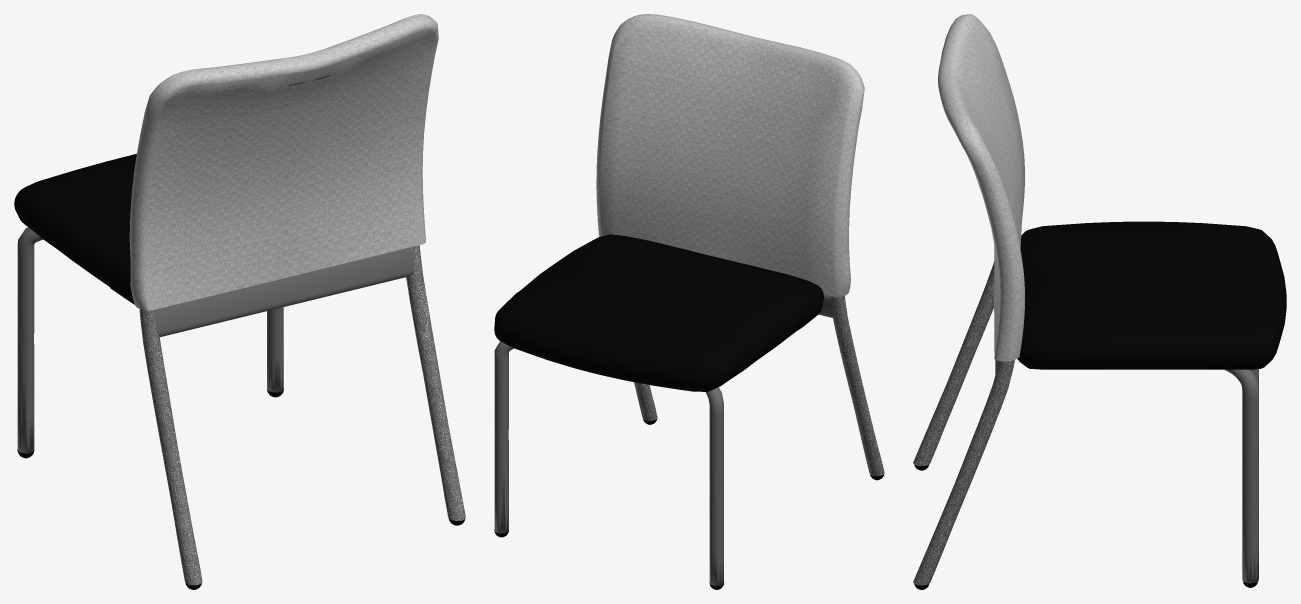
The picture shows the model from 3 angles, left to right: view 1: azimuth 30°, elevation 25°; view 2: azimuth 150°, elevation 25°; view 3: azimuth 270°, elevation 25°; orthographic projection. The views are drawn at different scales.
Parts seen in each view (by area): view 1: Obj_000010_ID168, Obj_000008_1_ID150, Obj_000006_ID132, Obj_000005_1_ID40, Obj_000004_1_ID32, Obj_000003_1_ID22; view 2: Obj_000010_ID168, Obj_000008_1_ID150, Obj_000006_ID132, Obj_000004_1_ID32, Obj_000003_1_ID22; view 3: Obj_000008_1_ID150, Obj_000010_ID168, Obj_000006_ID132, Obj_000003_1_ID22.
Part boxes in pixels (x1=…): Obj_000010_ID168: x1=129, y1=14, x2=438, y2=311; Obj_000008_1_ID150: x1=14, y1=153, x2=136, y2=304; Obj_000006_ID132: x1=139, y1=74, x2=465, y2=585; Obj_000005_1_ID40: x1=154, y1=247, x2=414, y2=336; Obj_000004_1_ID32: x1=17, y1=227, x2=42, y2=453; Obj_000003_1_ID22: x1=267, y1=307, x2=283, y2=392; Obj_000010_ID168: x1=596, y1=14, x2=864, y2=297; Obj_000008_1_ID150: x1=494, y1=234, x2=823, y2=391; Obj_000006_ID132: x1=634, y1=295, x2=884, y2=476; Obj_000004_1_ID32: x1=706, y1=387, x2=723, y2=585; Obj_000003_1_ID22: x1=494, y1=341, x2=513, y2=533; Obj_000008_1_ID150: x1=1017, y1=221, x2=1286, y2=369; Obj_000010_ID168: x1=938, y1=14, x2=1024, y2=361; Obj_000006_ID132: x1=913, y1=261, x2=1014, y2=585; Obj_000003_1_ID22: x1=1225, y1=369, x2=1258, y2=583.
Size of the model in its own units: 0.4424 by 0.7232 by 0.5304.
Materials: 6 (1 with a texture image).
